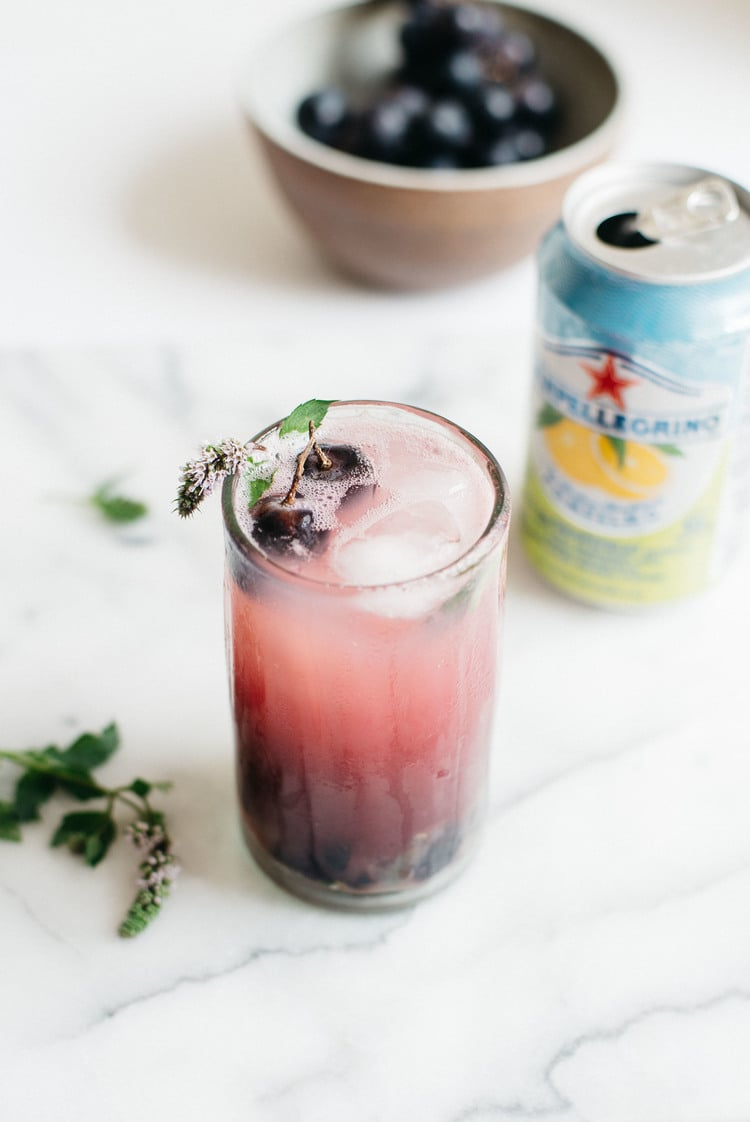can: (518, 153, 750, 621)
